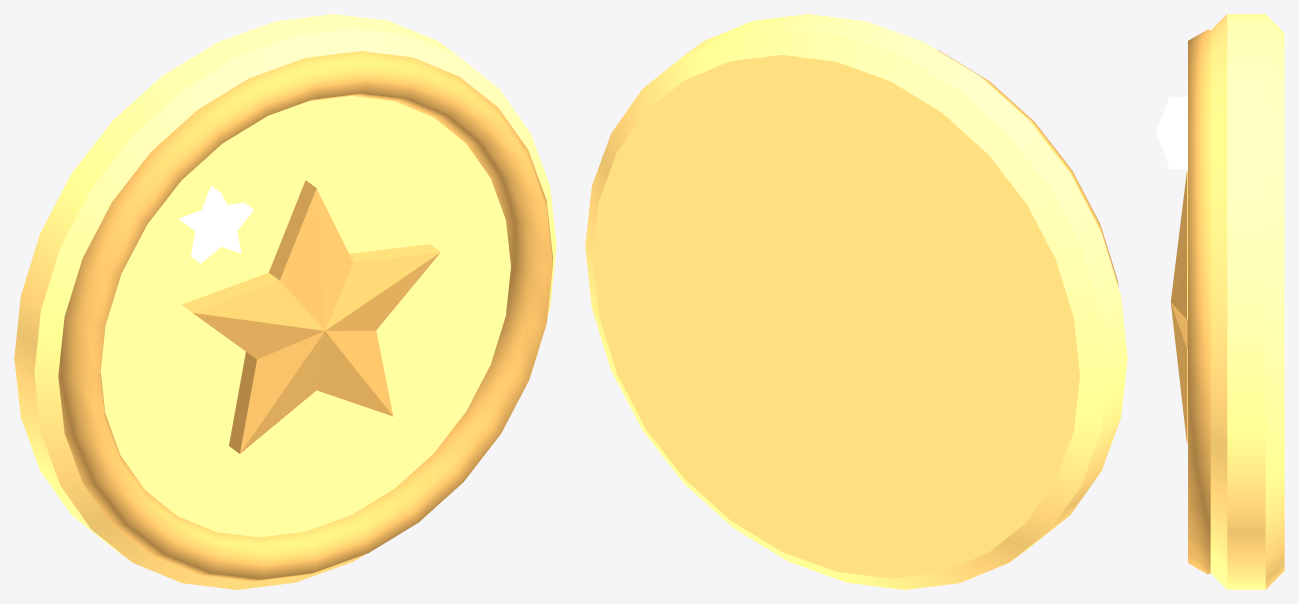
File: treasure_coin.glb
3 renders of one model, left to right at view 1: azimuth 30°, elevation 25°; view 2: azimuth 150°, elevation 25°; view 3: azimuth 270°, elevation 25°, orthographic. The views are drawn at different scales.
Visible parts, largest first — view 1: treasure_coin; view 2: treasure_coin; view 3: treasure_coin.
Part boxes in pixels (left/top/right/bottom): treasure_coin: left=14, top=14, right=556, bottom=589; treasure_coin: left=585, top=14, right=1127, bottom=589; treasure_coin: left=1156, top=14, right=1284, bottom=589.
Bounding box in the file's own units: 0.3 × 0.3 × 0.067.
